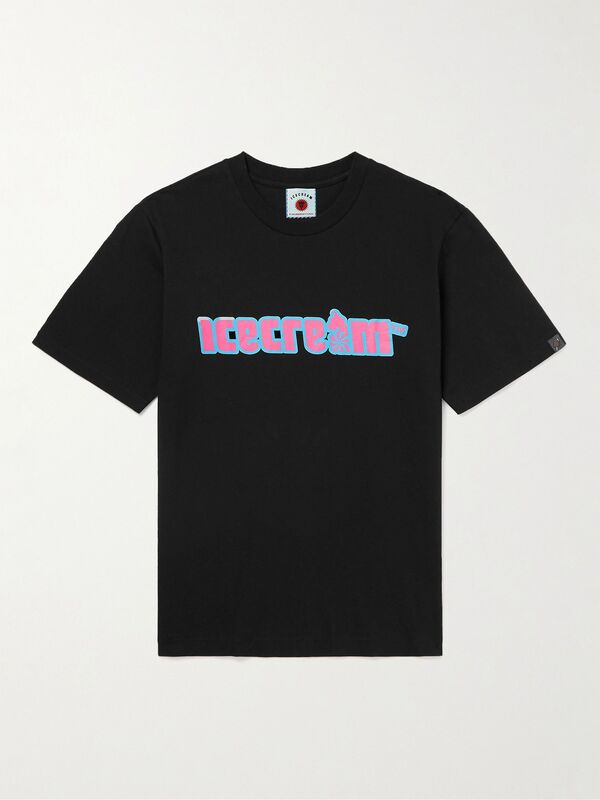tshirt: (27, 148, 569, 661)
